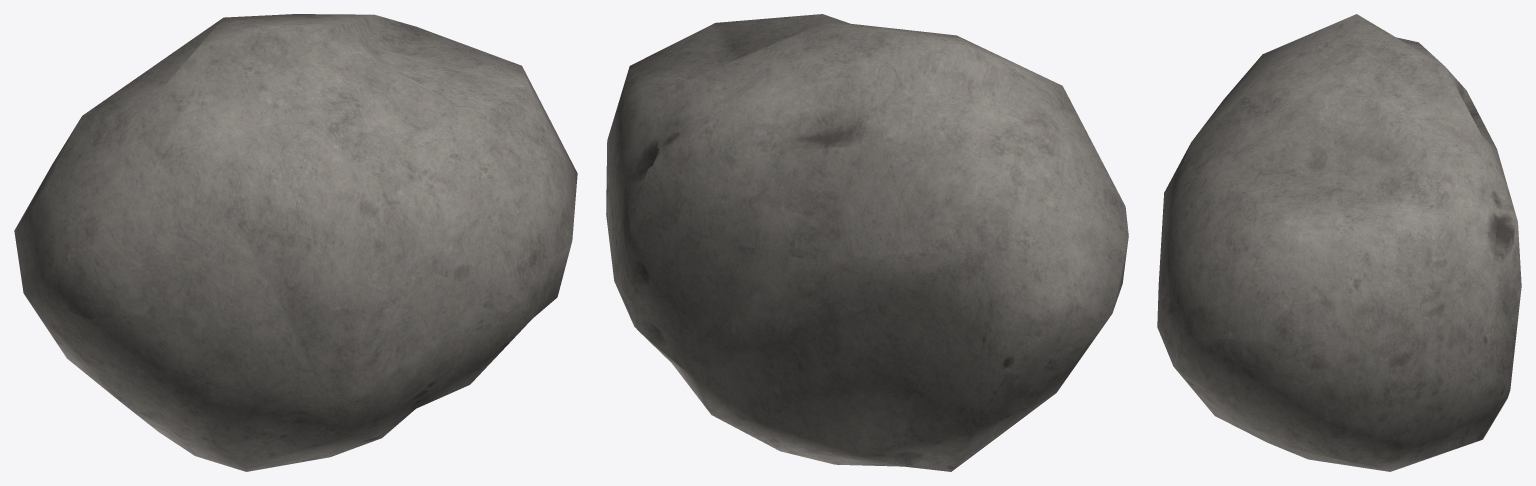
Rendered from Deimos.fbx.
3 views of the same model, side by side, from view 1: azimuth 30°, elevation 25°; view 2: azimuth 150°, elevation 25°; view 3: azimuth 270°, elevation 25° (orthographic). The views are drawn at different scales.
Visible parts, largest first — view 1: Deimos; view 2: Deimos; view 3: Deimos.
Boxes of the visible parts, <box> form: Deimos: <box>14,14,577,471</box>; Deimos: <box>606,14,1128,471</box>; Deimos: <box>1157,14,1521,471</box>.
Size of the model in its own units: 2.37 by 1.89 by 1.57.
Materials: 1 (1 with a texture image).
